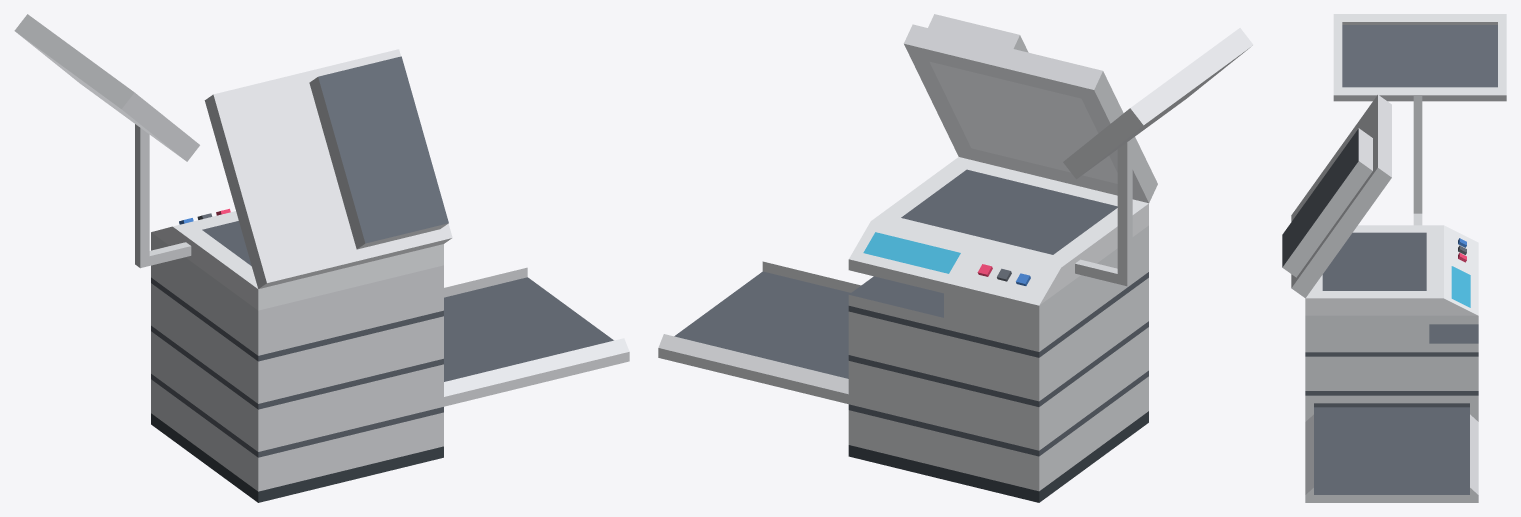
The model's file is 3_PhotocopyMachineLeft.fbx.
The picture shows the model from 3 angles, left to right: view 1: azimuth 30°, elevation 25°; view 2: azimuth 150°, elevation 25°; view 3: azimuth 270°, elevation 25°; orthographic projection. The views are drawn at different scales.
Parts seen in each view (by area): view 1: 0_PhotocopyMachine.002; view 2: 0_PhotocopyMachine.002; view 3: 0_PhotocopyMachine.002.
Boxes of the visible parts, <box> form: 0_PhotocopyMachine.002: <box>14,14,629,502</box>; 0_PhotocopyMachine.002: <box>658,14,1253,502</box>; 0_PhotocopyMachine.002: <box>1282,14,1506,502</box>.
Size of the model in its own units: 130 by 264 by 218.
Materials: 1 (1 with a texture image).
